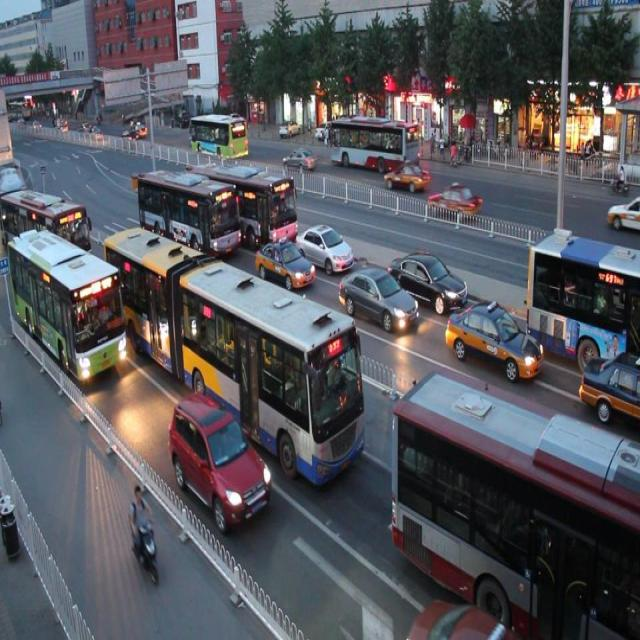car: (168, 392, 269, 534), (446, 294, 544, 382), (406, 586, 514, 640), (337, 258, 416, 331), (390, 243, 468, 309), (575, 347, 640, 421), (253, 230, 314, 289), (294, 214, 352, 273), (67, 255, 114, 309), (206, 163, 236, 194)
van: (102, 218, 366, 482), (392, 367, 640, 639), (0, 229, 128, 383), (526, 227, 640, 365), (136, 160, 240, 262), (191, 153, 298, 248), (1, 182, 90, 272)
